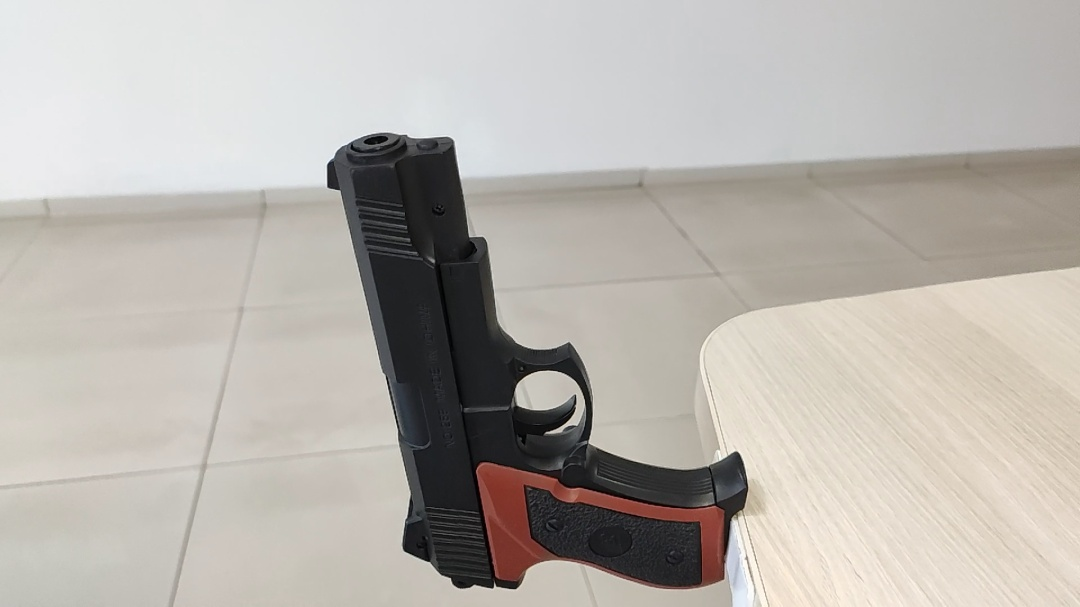gun: (603, 300, 650, 326)
